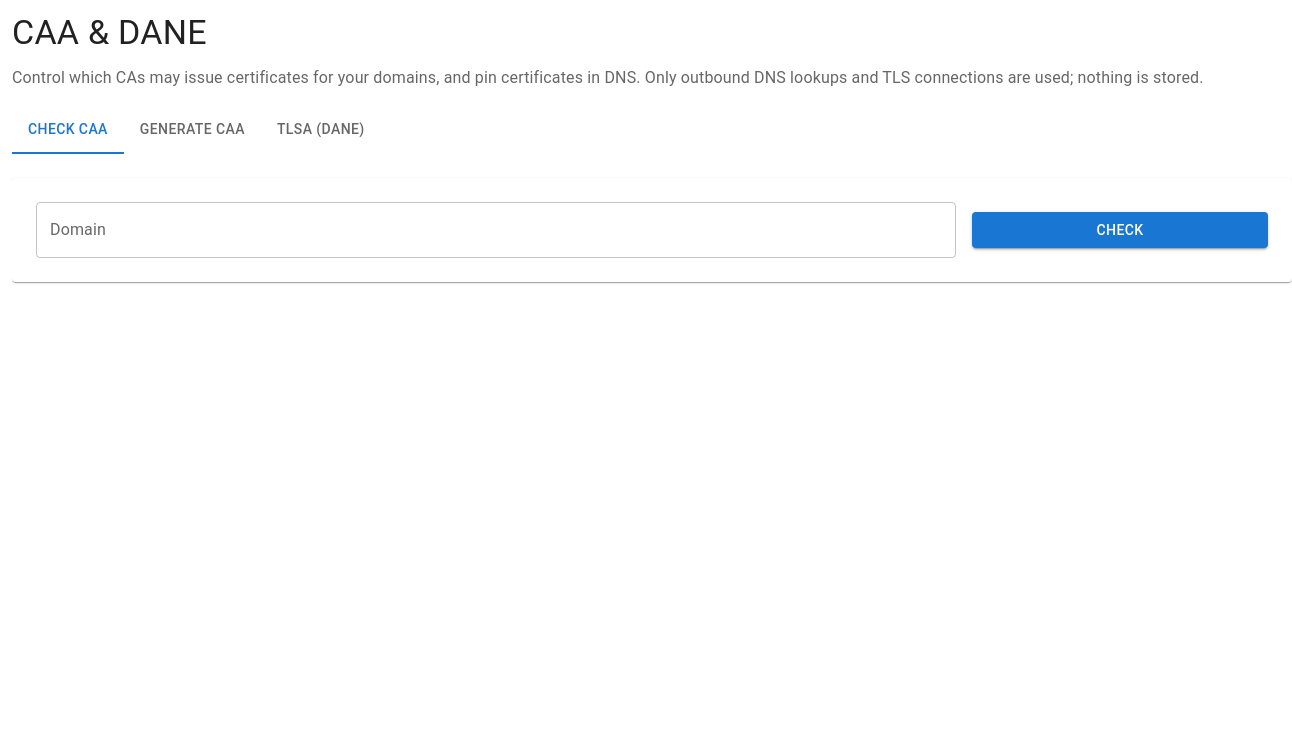
Test: refuses to generate without a CA unless blocking all issuance is chosen
This screenshot has width=1292, height=732.
Step 1. Click the tab "Generate CAA" → (192,130), box x1=124 y1=106 x2=261 y2=154
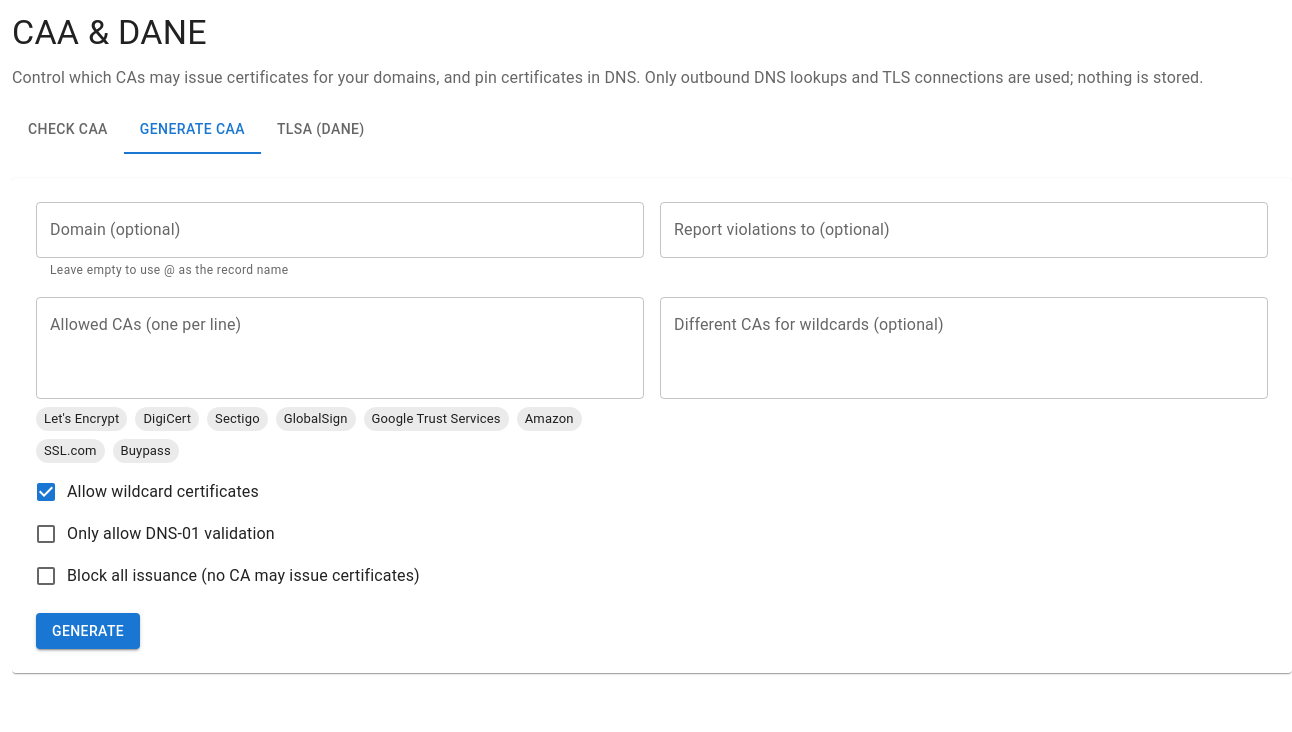
Step 2. Click the button "Generate" → (88,631), box x1=36 y1=613 x2=140 y2=649
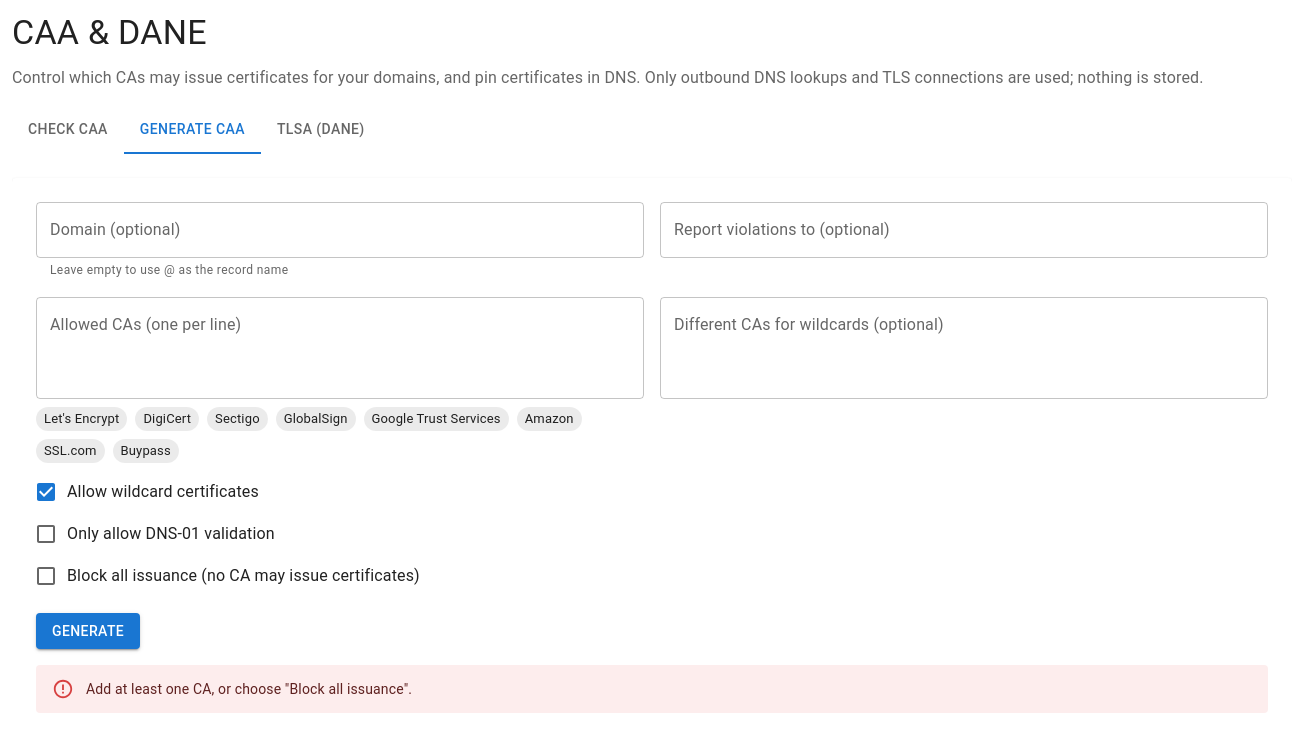
Expected: the text "Add at least one CA, or choose \"Block all issuance\"." is shown, x1=86 y1=681 x2=412 y2=697
